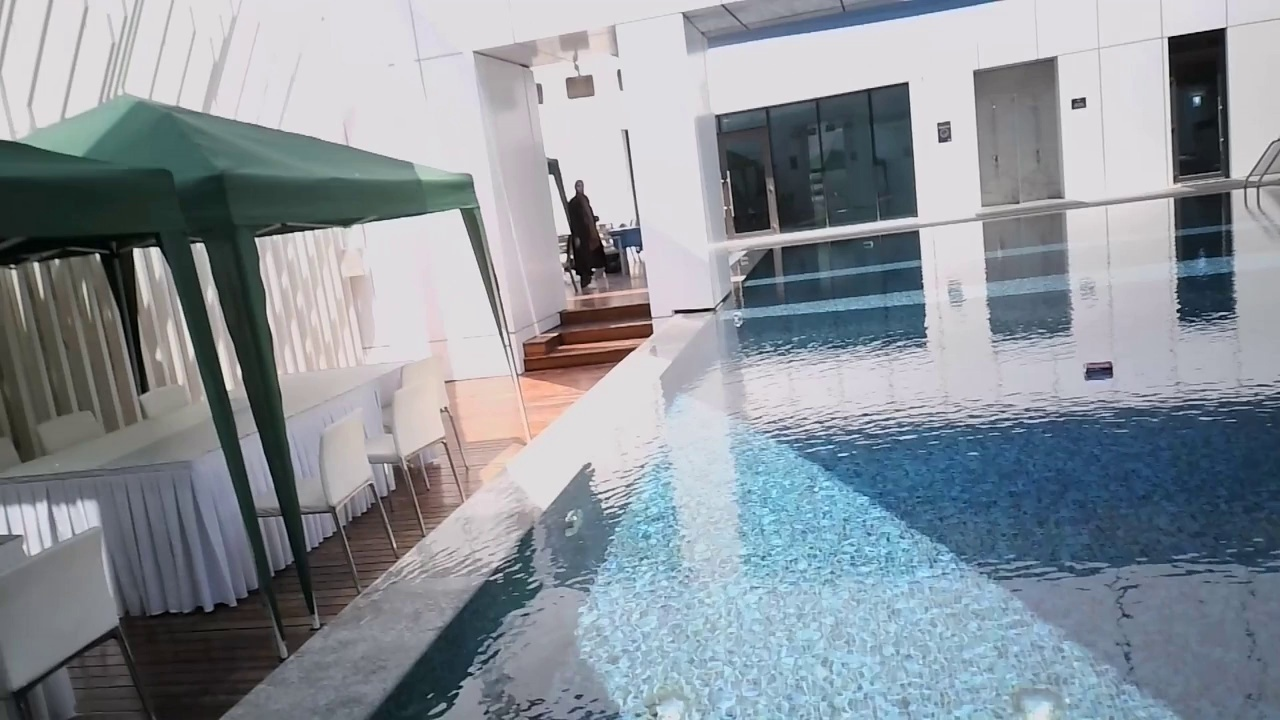debris: (1079, 357, 1117, 383), (730, 311, 746, 330), (860, 238, 875, 252)
